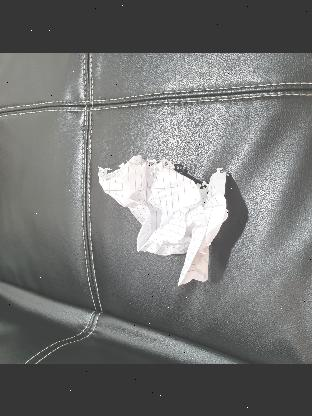Others: (99, 154, 233, 282)
